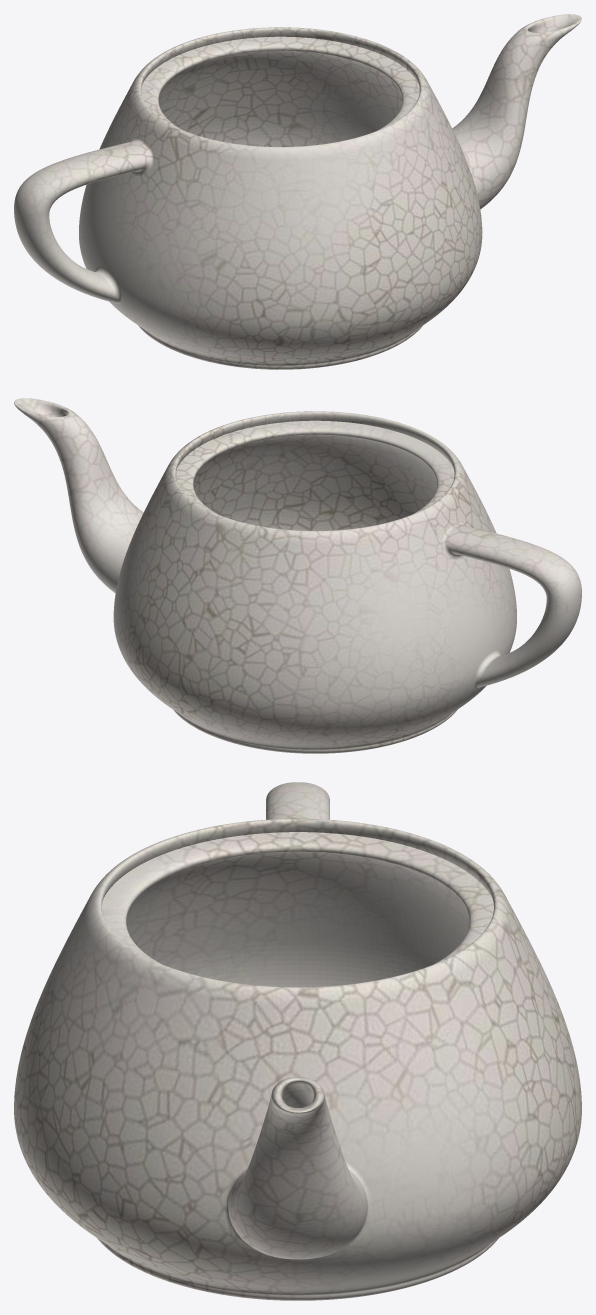
The picture shows the model from 3 angles, top to bottom: view 1: azimuth 30°, elevation 25°; view 2: azimuth 150°, elevation 25°; view 3: azimuth 270°, elevation 25°; orthographic projection. The views are drawn at different scales.
Parts seen in each view (by area): view 1: part_00; view 2: part_00; view 3: part_00.
Part boxes in pixels (x1,y1,x2,y2): part_00: [14, 14, 581, 369]; part_00: [14, 398, 581, 753]; part_00: [14, 782, 581, 1300].
Bounding box in the file's own units: 0.21 × 0.0816 × 0.1306.
1 material, 1 textured.
